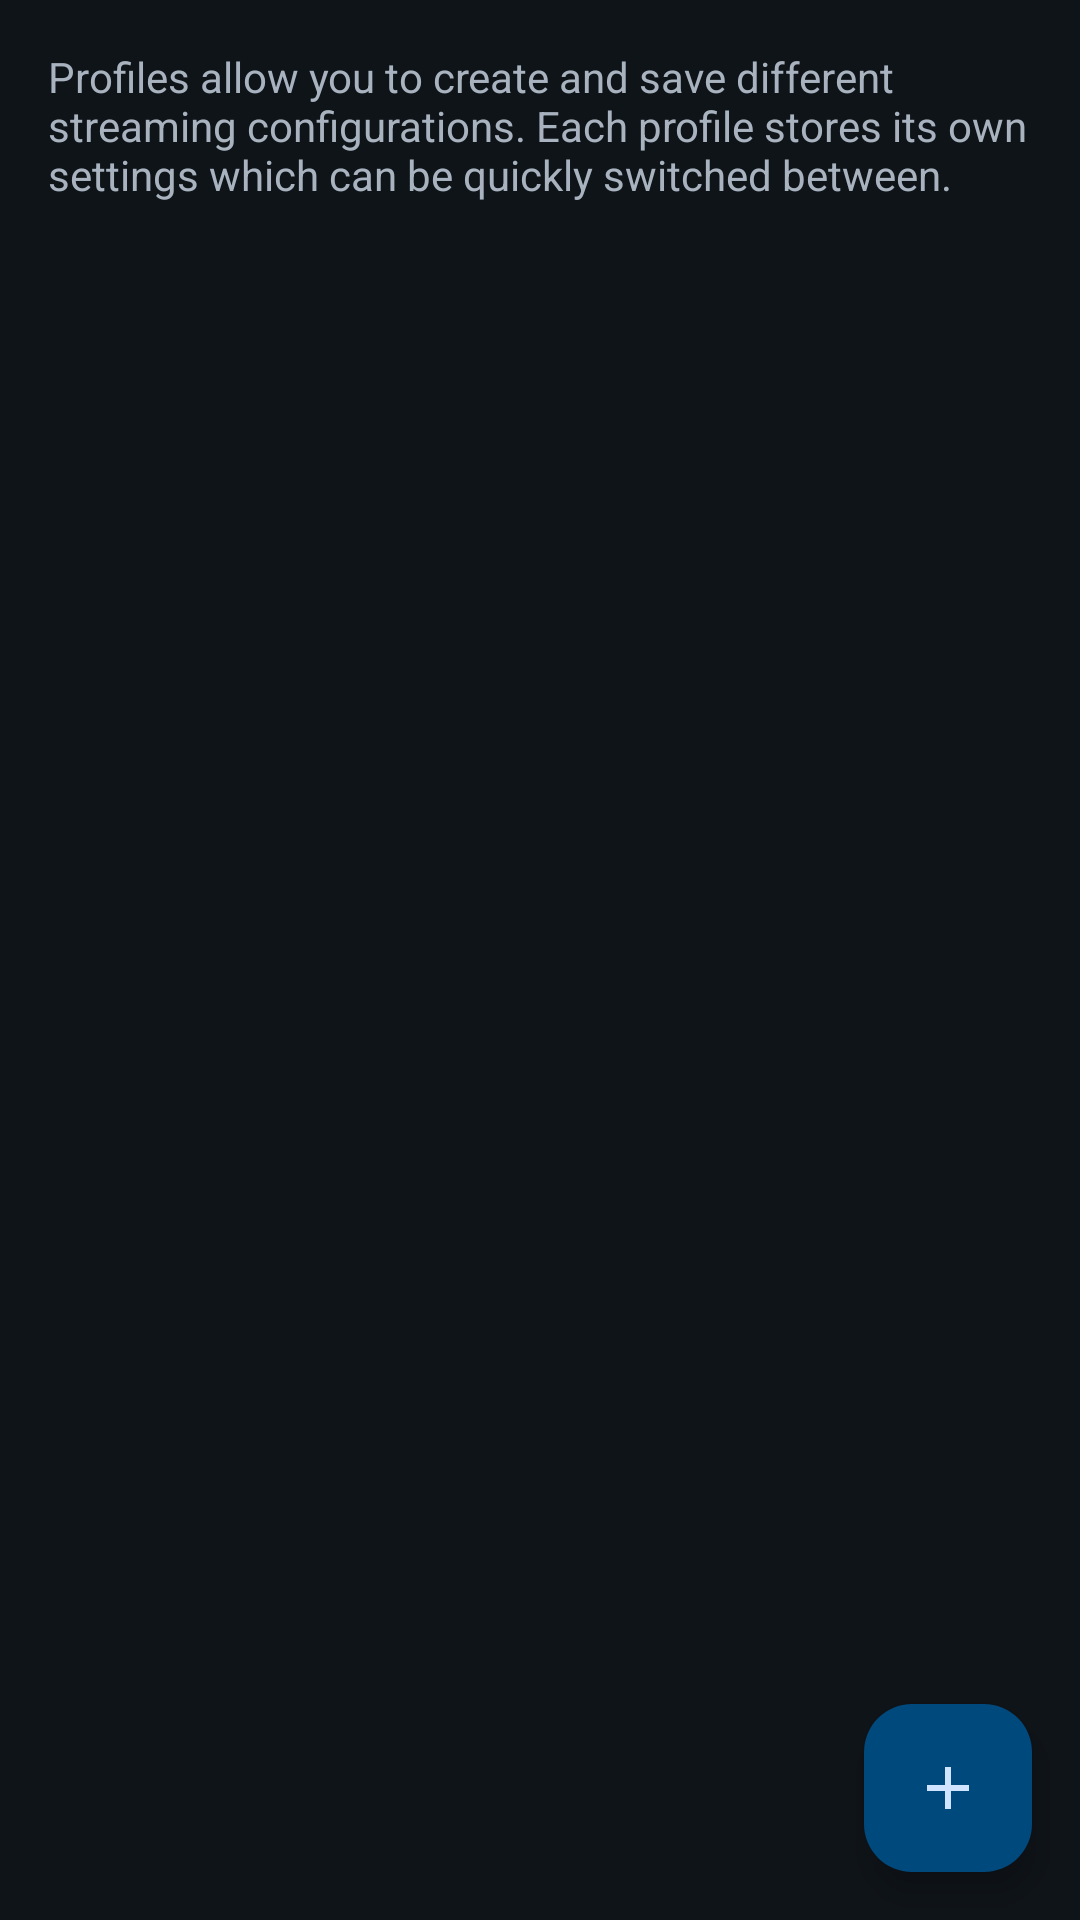

Icons on this 1080w x 1920h Android screen, each with the point to tap as (x,y):
New Profile: (948,1788)
